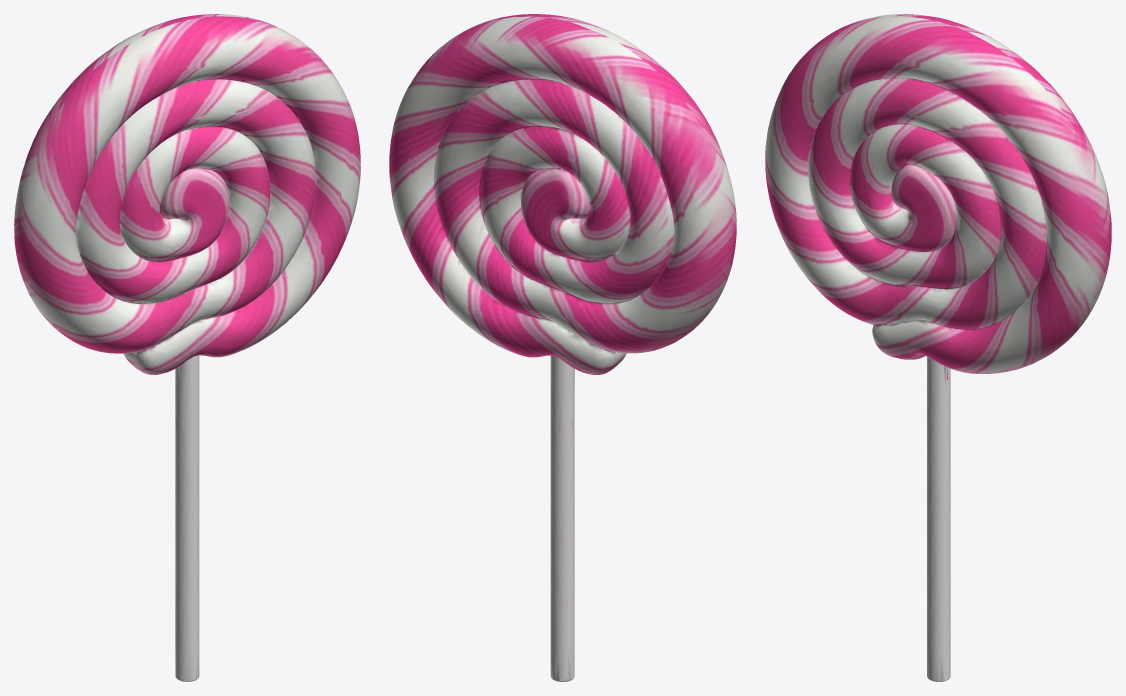
Rendered from lolly.glb.
3 views of the same model, side by side, from view 1: azimuth 30°, elevation 25°; view 2: azimuth 150°, elevation 25°; view 3: azimuth 330°, elevation 25° (orthographic).
Size of the model in its own units: 1.02 by 1.9 by 0.1969.
1 material, 1 textured.
